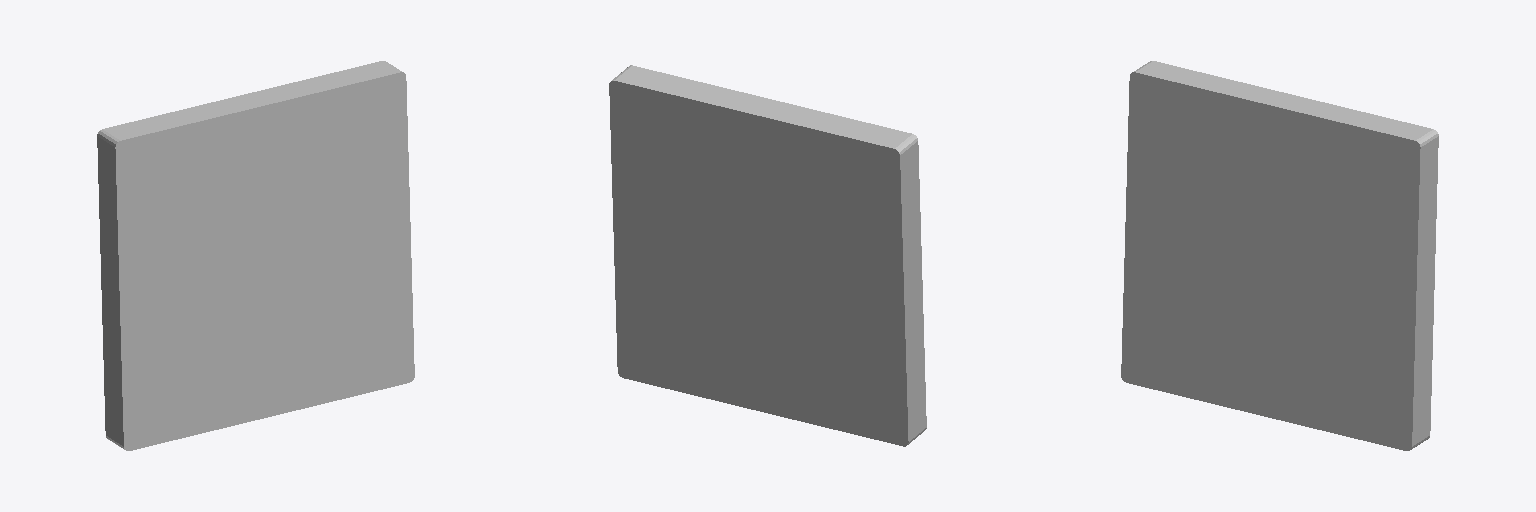
Rendered from original-6.obj.
3 renders of one model, left to right at view 1: azimuth 30°, elevation 25°; view 2: azimuth 150°, elevation 25°; view 3: azimuth 330°, elevation 25°, orthographic.
Parts seen in each view (by area): view 1: #ID22; view 2: #ID22; view 3: #ID22.
Boxes of the visible parts, box(x1,y1,x2,y2) form: #ID22: box(97, 61, 414, 450); #ID22: box(609, 65, 926, 446); #ID22: box(1121, 61, 1438, 450).
Size of the model in its own units: 0.921 by 0.925 by 0.1485.